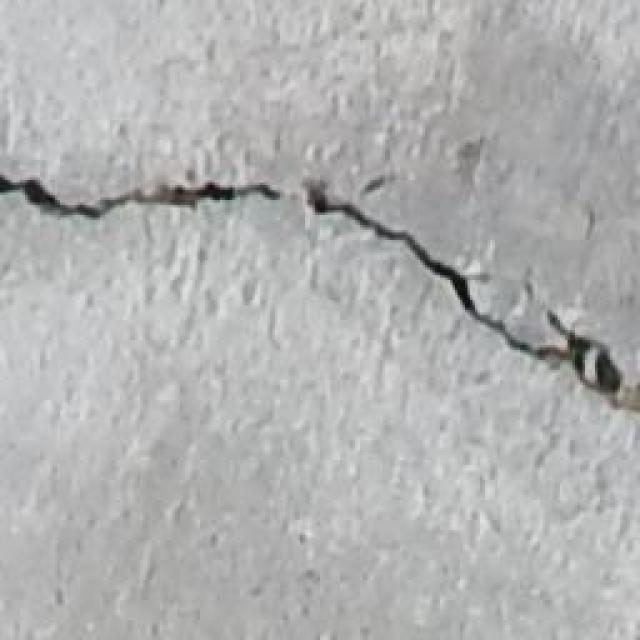concrete-crack: (307, 181, 636, 418), (0, 165, 283, 225)
